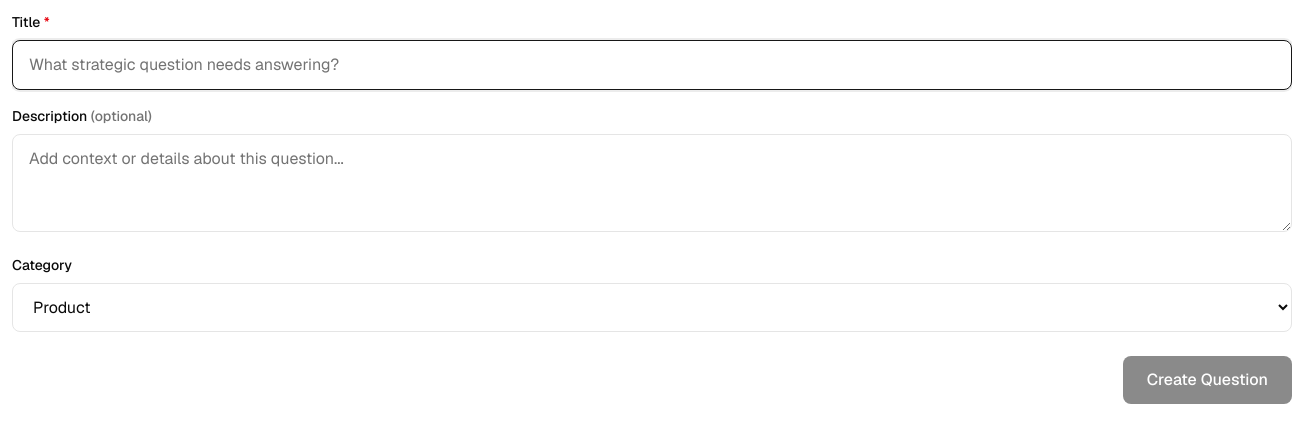
QuestionForm › enables submit button when title is filled
Type "Test Question" into the field with test id "question-title-input" at [652, 65], box top-left (12, 40), bottom-right (1292, 90)
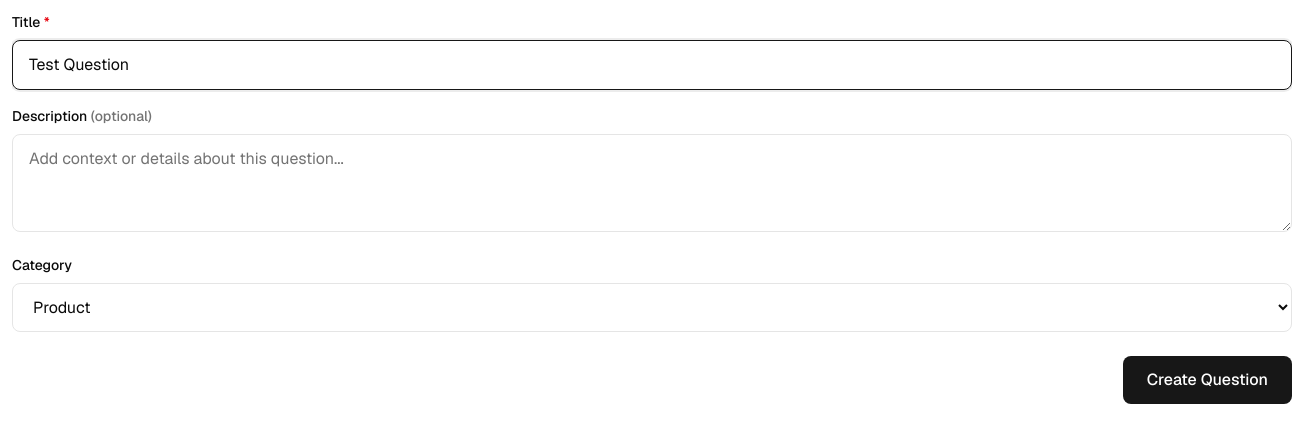
Expected: the button with test id "question-submit" is enabled, top-left (1123, 356), bottom-right (1292, 404)
